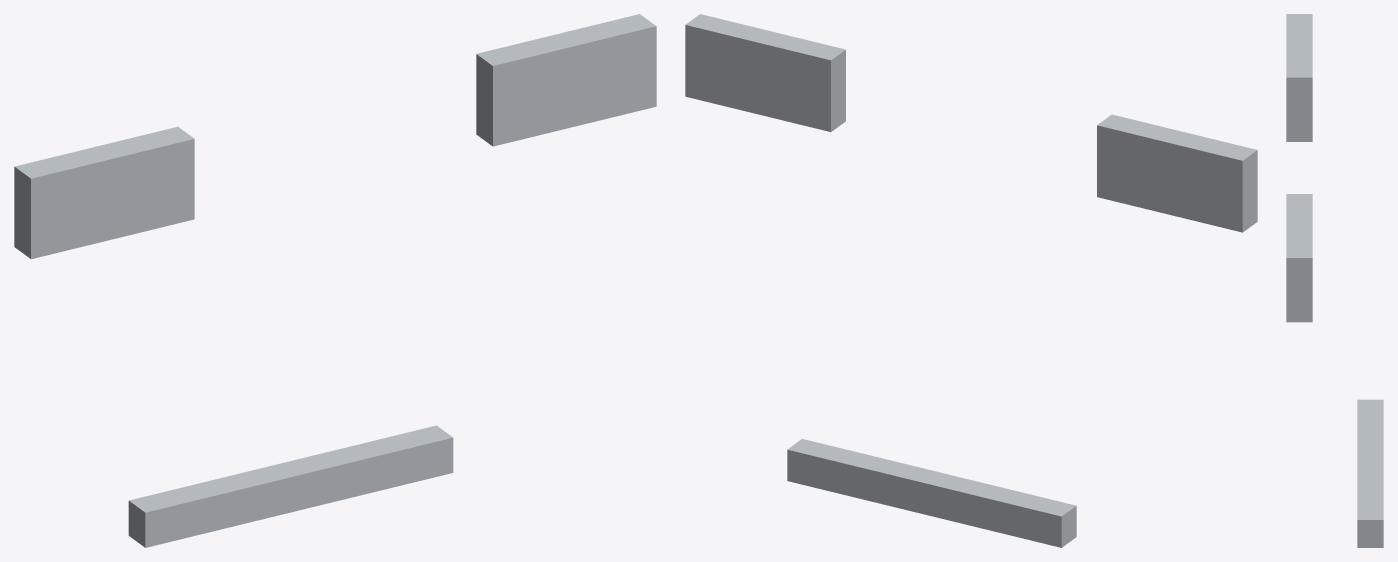
The model's file is npc_gear_face.fbx.
The picture shows the model from 3 angles, left to right: view 1: azimuth 30°, elevation 25°; view 2: azimuth 150°, elevation 25°; view 3: azimuth 270°, elevation 25°; orthographic projection. The views are drawn at different scales.
Visible parts, largest first — view 1: npc_gear_face; view 2: npc_gear_face; view 3: npc_gear_face.
Boxes of the visible parts, box(x1,y1,x2,y2) form: npc_gear_face: box(14, 14, 656, 547); npc_gear_face: box(685, 14, 1257, 547); npc_gear_face: box(1286, 14, 1383, 547).
Size of the model in its own units: 65 by 43.75 by 11.
